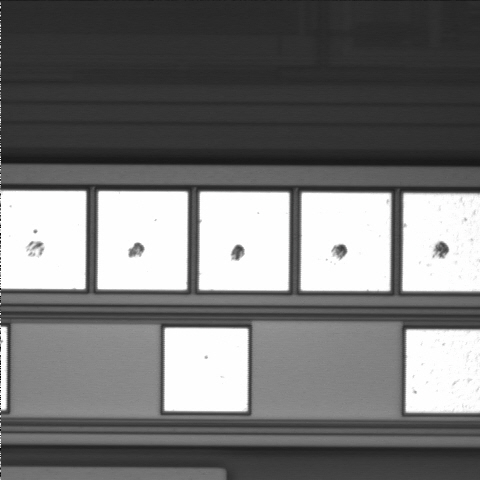pad: (98, 191, 188, 290), (199, 192, 289, 291), (301, 193, 391, 291), (164, 328, 248, 411)
